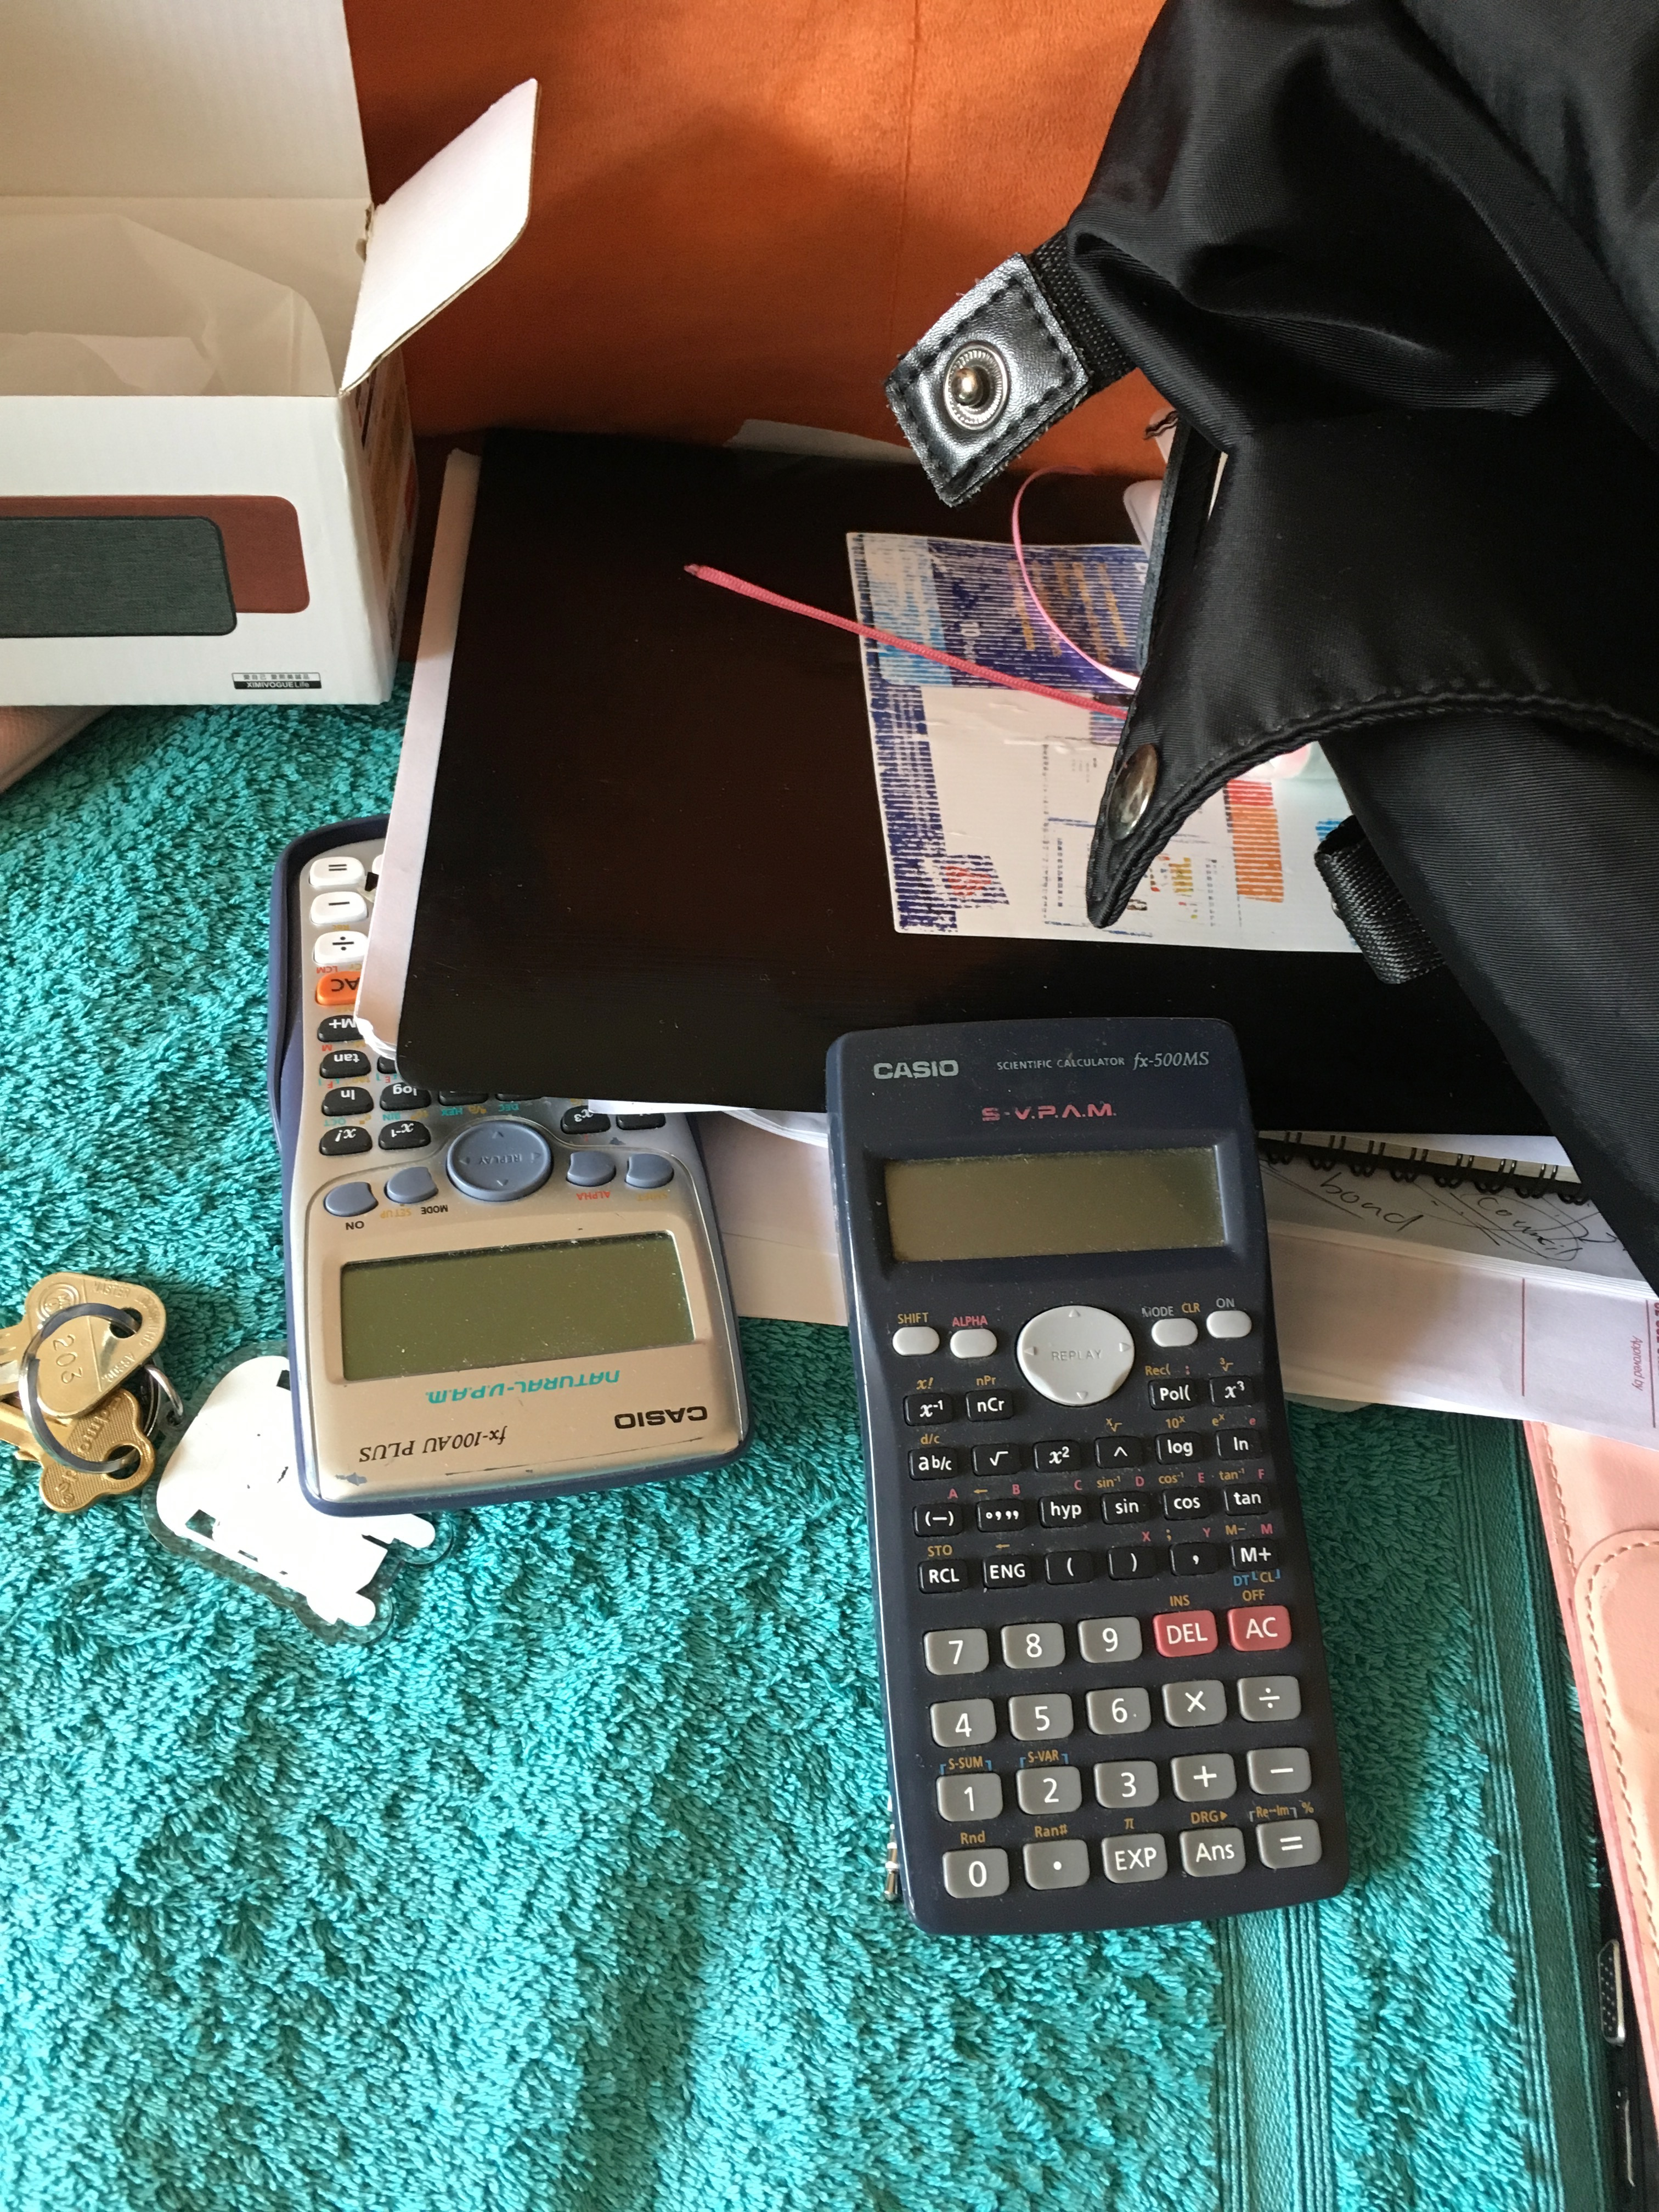Calculator: (809, 988, 1366, 1958), (261, 813, 763, 1529)
